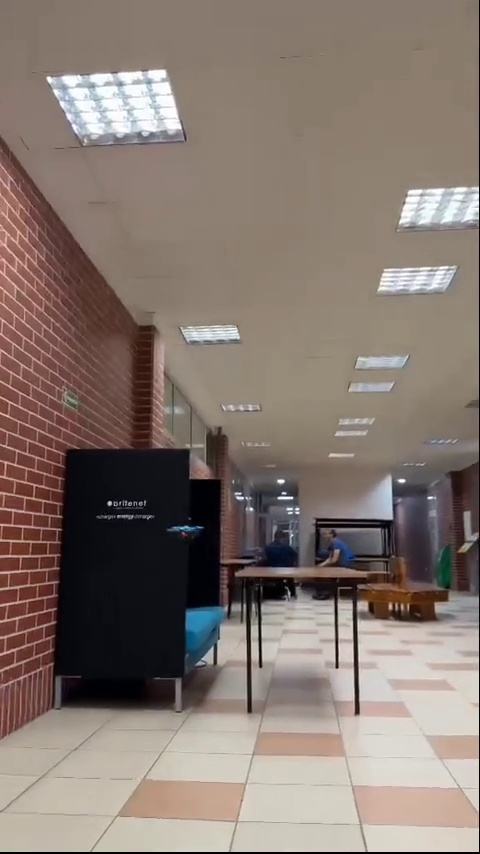drone: (168, 526, 205, 538)
no vest: (265, 530, 296, 568), (323, 528, 349, 567)
